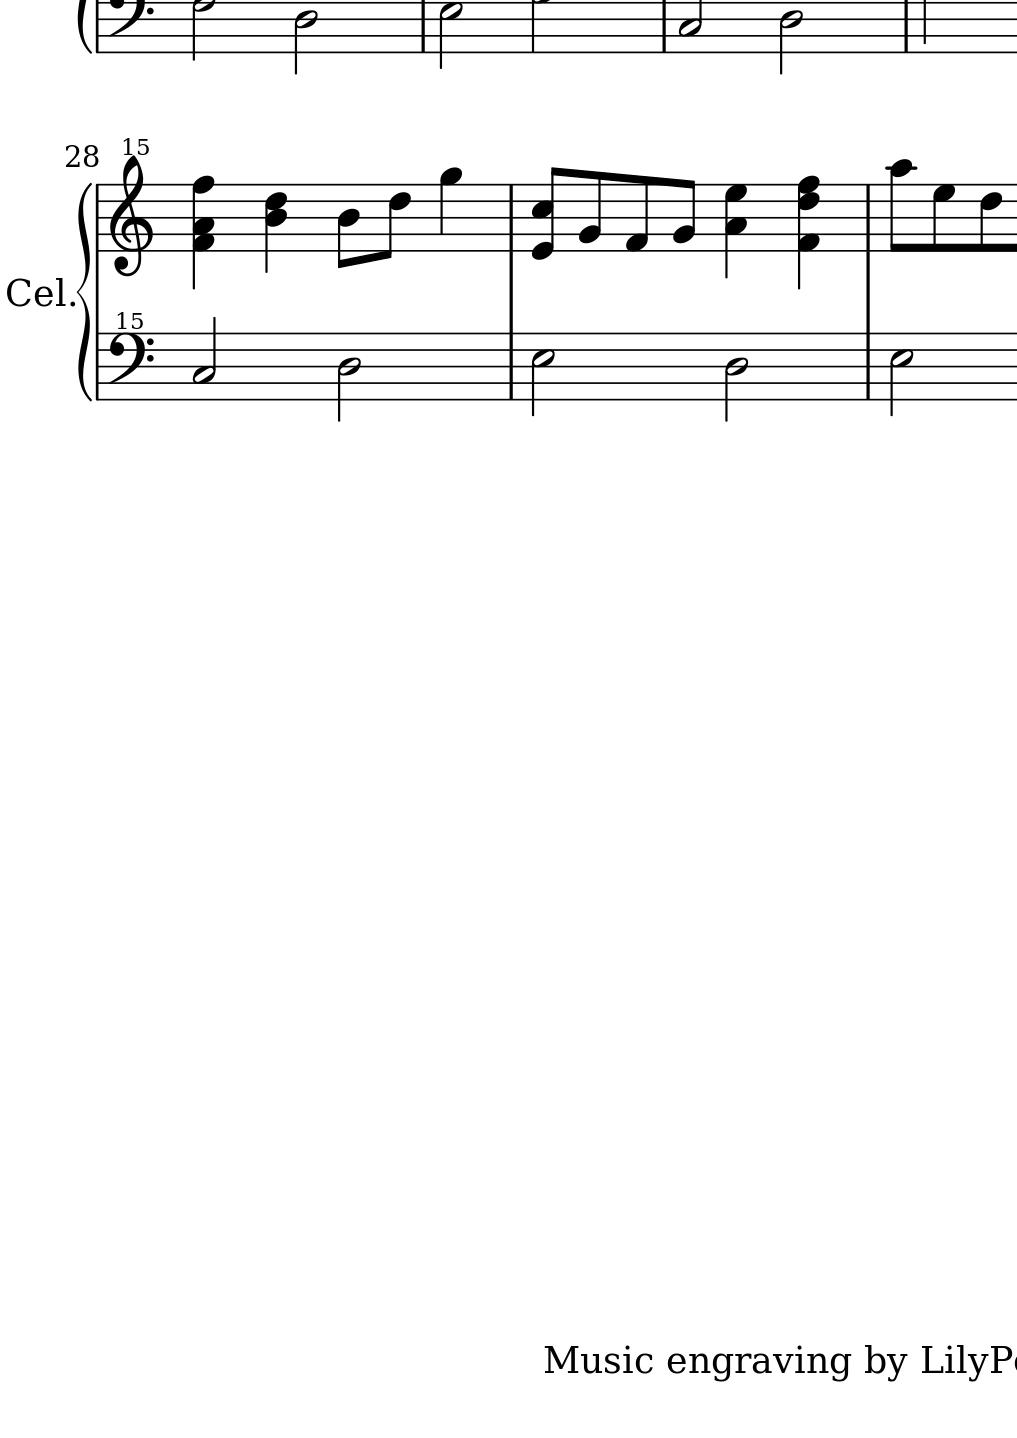2: (64, 143, 80, 171)
2_3: (192, 316, 218, 402)
2_4: (335, 332, 361, 422), (723, 332, 750, 421)
2_5: (887, 332, 914, 416), (528, 332, 554, 416)
4_3_7: (723, 182, 748, 281)
4_4_6: (263, 182, 288, 275)
4_9: (437, 166, 461, 253)
8: (83, 142, 100, 169)
8_0_5: (531, 166, 566, 261)
8_1: (623, 174, 650, 254)
8_10: (887, 157, 915, 254)
8_2: (577, 169, 602, 253), (670, 178, 696, 254)
8_4: (335, 182, 360, 271)
8_6: (378, 182, 411, 262), (977, 183, 1002, 254)
8_7: (930, 182, 956, 254)
Brace: (77, 175, 92, 400)
Cel: (3, 275, 69, 311)
DHigh_Fclef: (103, 305, 154, 404)
DHigh_Gclef: (107, 135, 158, 277)
Single_barline: (859, 185, 877, 251), (502, 185, 520, 251), (859, 333, 876, 399), (503, 333, 520, 400), (91, 185, 105, 251), (92, 334, 105, 400)
